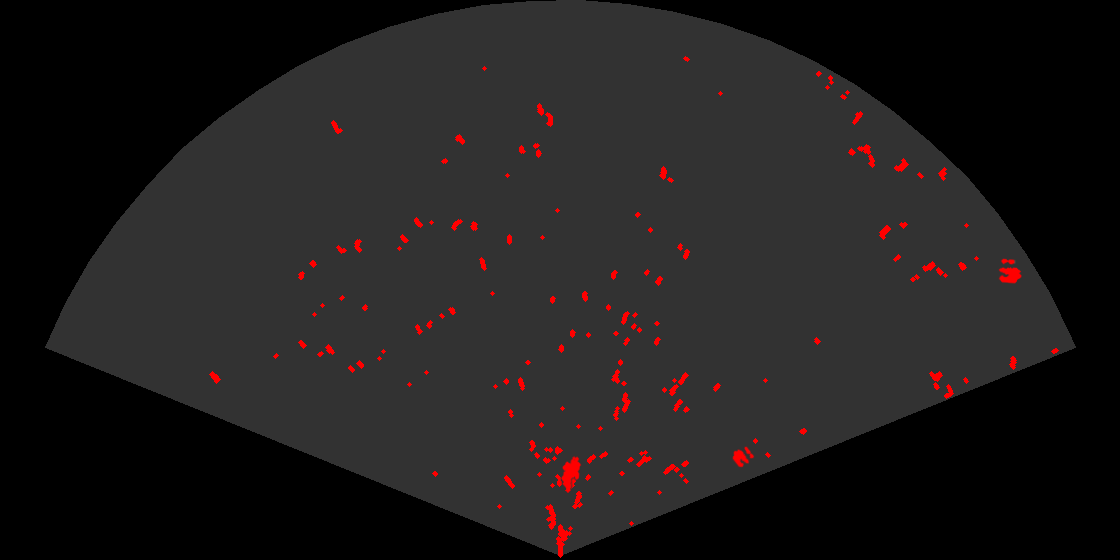AUV: (560, 454, 583, 494)
ball: (997, 257, 1023, 285), (731, 445, 756, 469)
